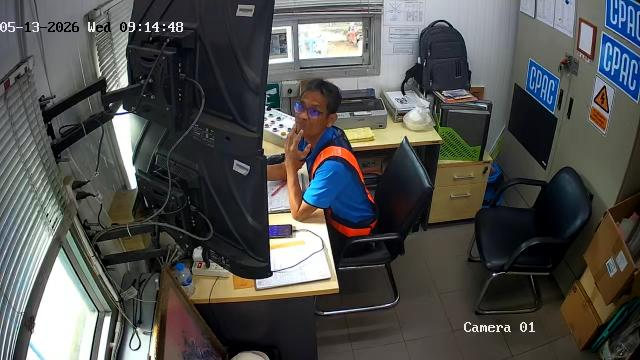Head: (294, 79, 340, 137)
People: (267, 79, 377, 238)
Phone: (269, 225, 293, 238)
